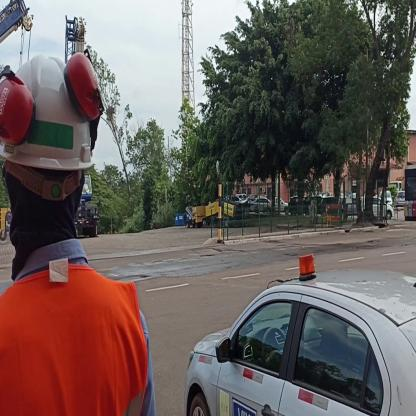Balaclava: (6, 158, 83, 264)
Capacete: (3, 46, 102, 160)
